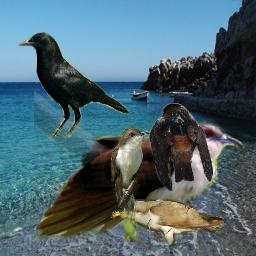Crow: (17, 32, 130, 138)
Cuckoo: (34, 41, 246, 248), (109, 199, 228, 256), (111, 124, 150, 242)
Swallow: (149, 103, 214, 192)
